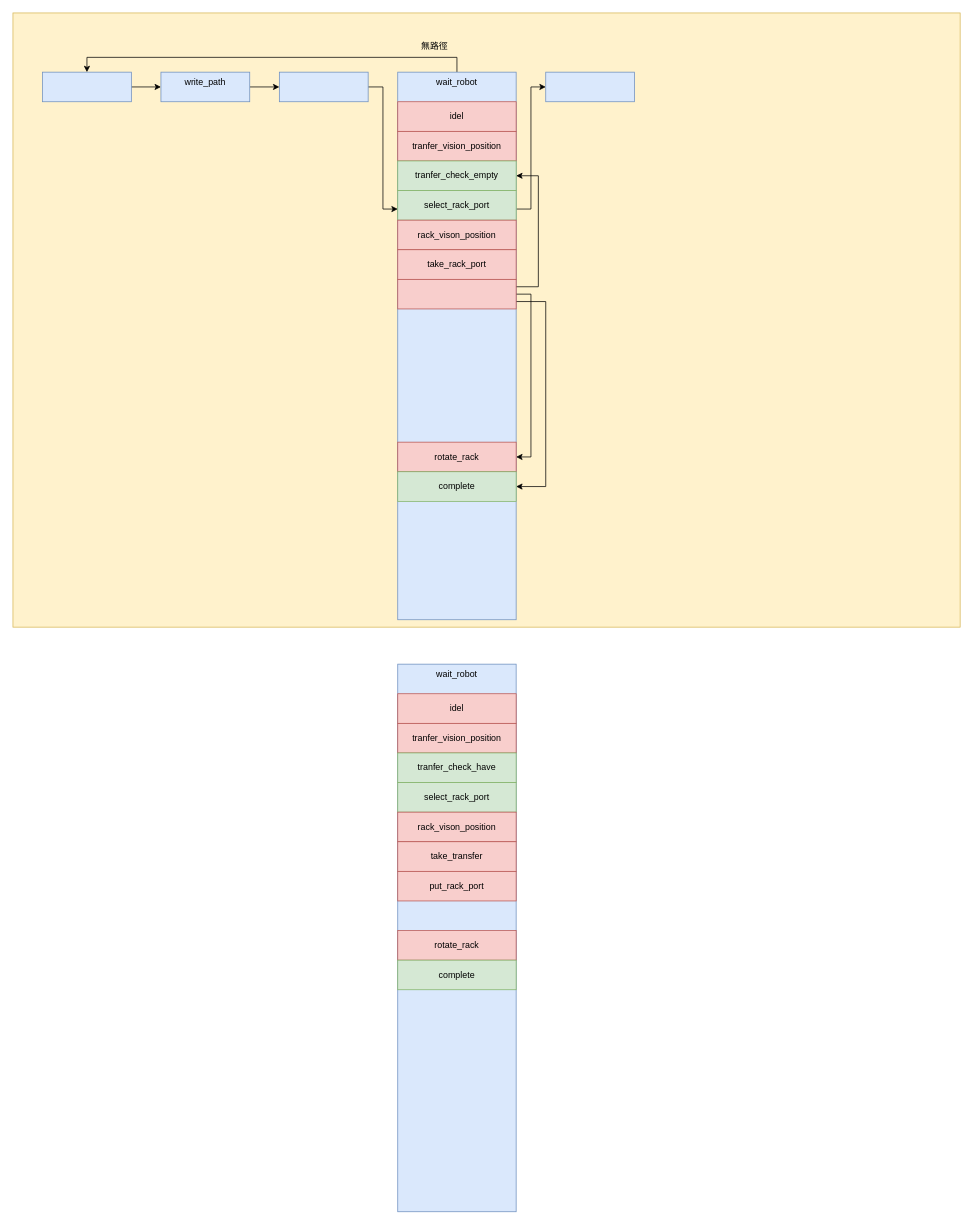
The diagram is 973 pixels wide and 1225 high, and some of its shapes have lost their labels. Here are the shapes that lost their labels. From the top down, the box of each, then its label:
(42, 71, 131, 102): mission_select
(279, 71, 368, 102): running
(545, 71, 635, 102): finish
(397, 279, 516, 309): put_tranfer
(12, 12, 960, 627): agv_base.auto
